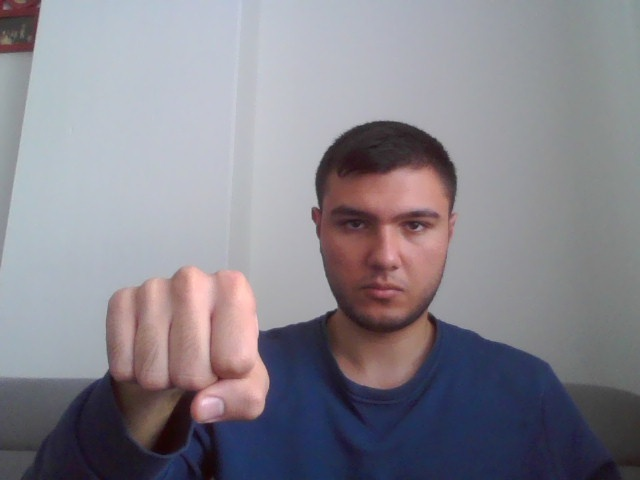yes: (104, 266, 273, 422)
